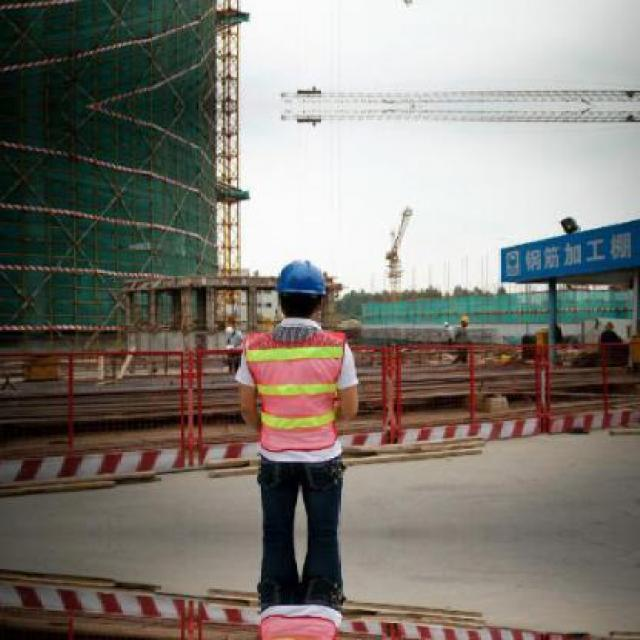hat: (262, 242, 331, 307), (220, 320, 235, 340), (457, 310, 474, 327)
